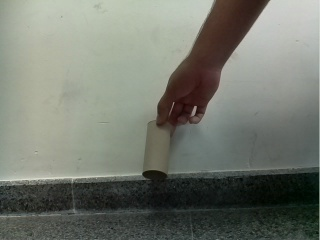rollo papel: (142, 120, 173, 178)
